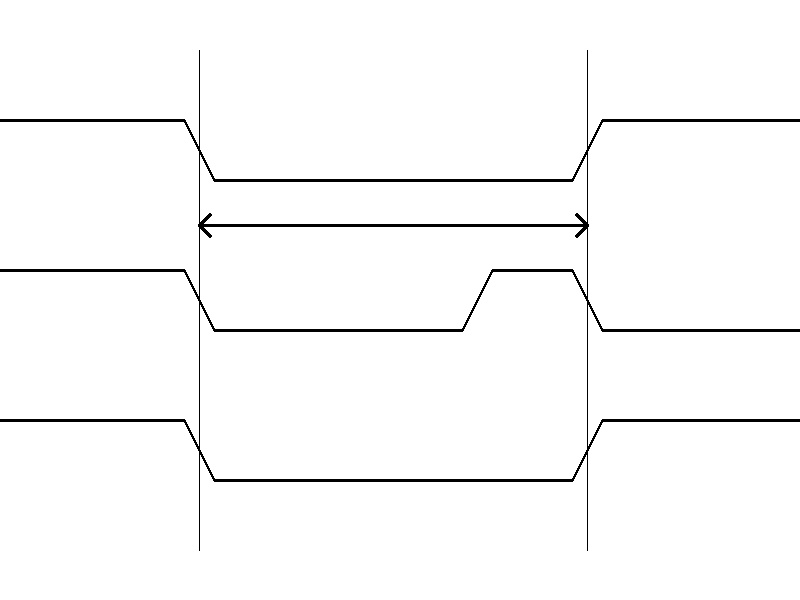double_arrow: (199, 210, 587, 240)
